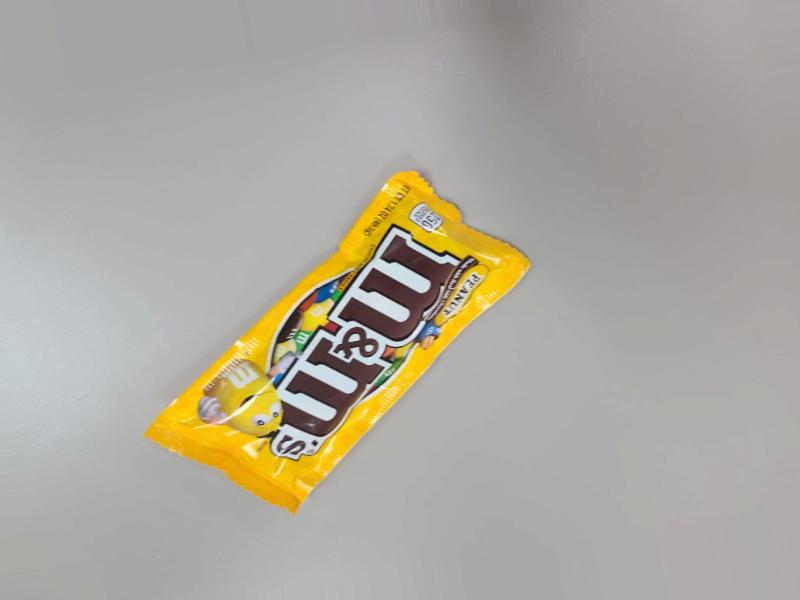m&m: (178, 161, 529, 518)
